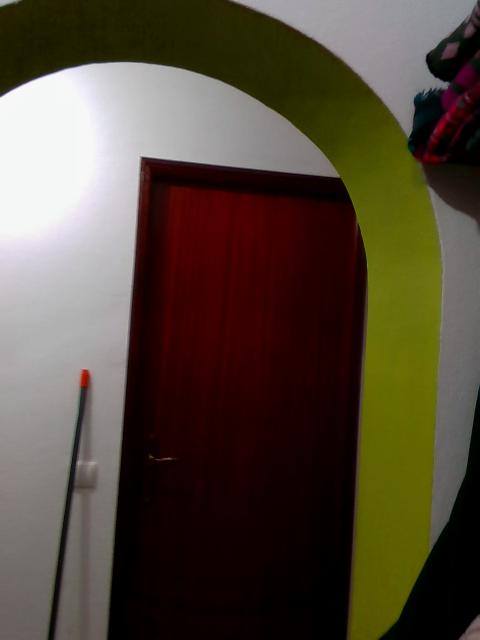closed_door: (107, 155, 363, 638)
